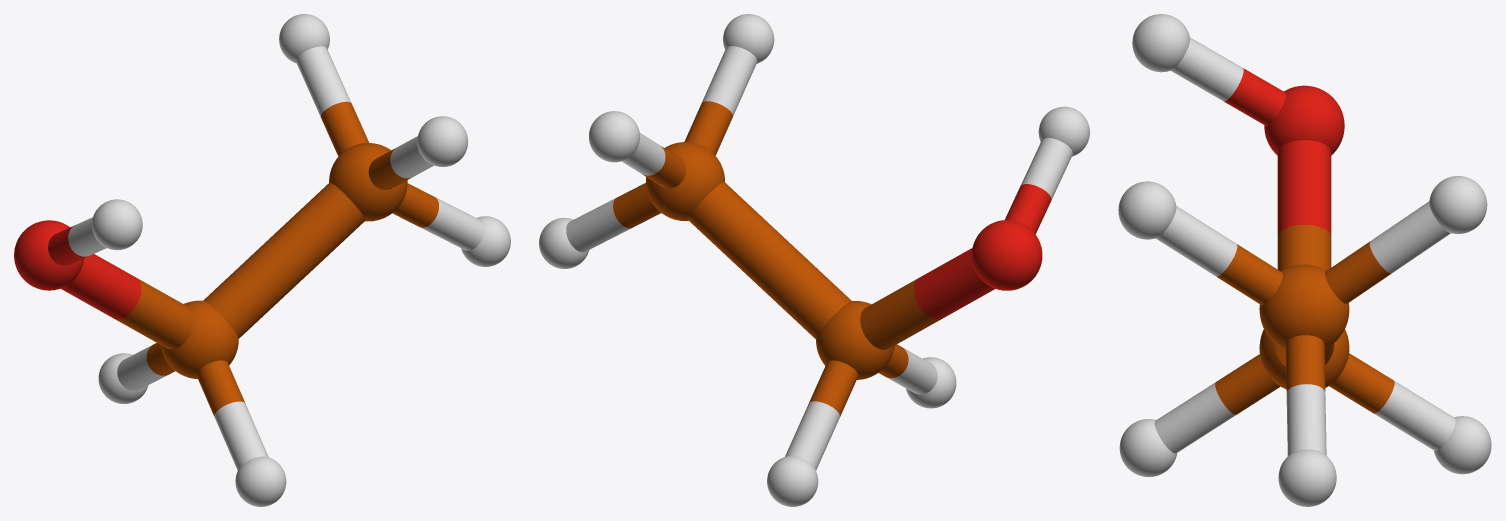
The model's file is etanol.glb.
3 renders of one model, left to right at view 1: azimuth 30°, elevation 25°; view 2: azimuth 150°, elevation 25°; view 3: azimuth 270°, elevation 25°, orthographic. The views are drawn at different scales.
Size of the model in its own units: 3.67 by 2.47 by 2.11.
